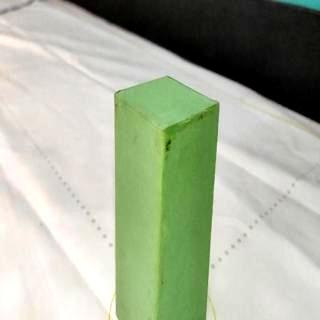greenbox: (112, 74, 220, 320)
